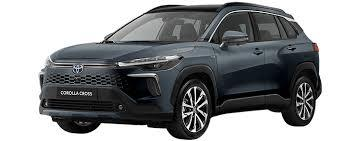toyota: (73, 64, 84, 74)
